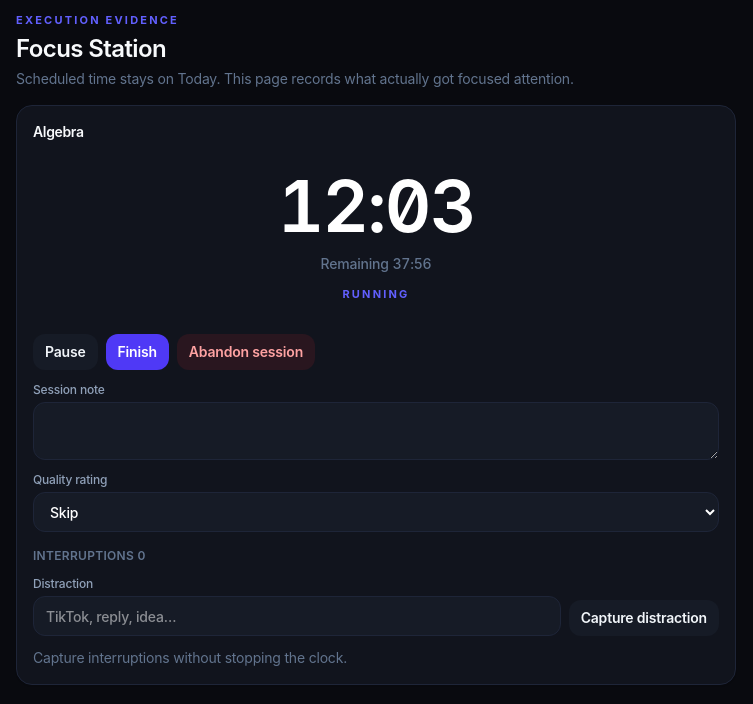
keeps distraction and note input when a write fails
Expected: the heading "Focus Station" is shown, x1=16 y1=34 x2=166 y2=62
Type "search laptop" into the field labelled "Distraction" at {"x": 297, "y": 616}, box x1=33 y1=596 x2=561 y2=636
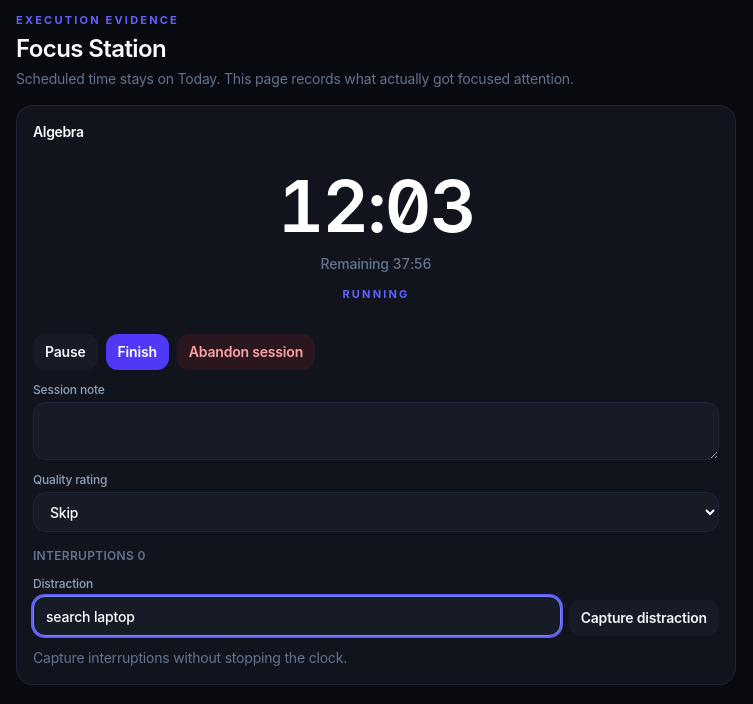
Type "almost done" into the text box labelled "Session note" at {"x": 376, "y": 431}, box x1=33 y1=402 x2=719 y2=460
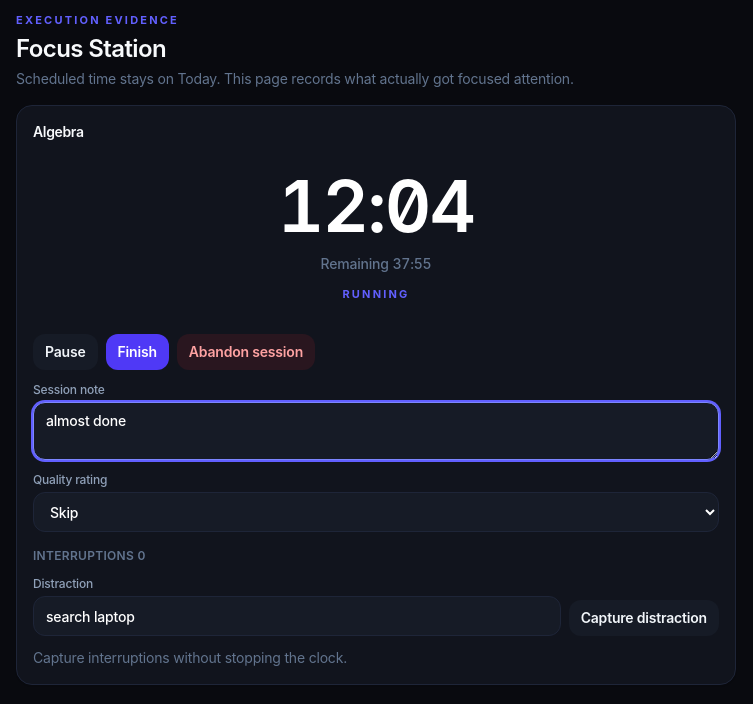
Click the button "Capture distraction" at {"x": 644, "y": 618}, box x1=569 y1=600 x2=719 y2=636
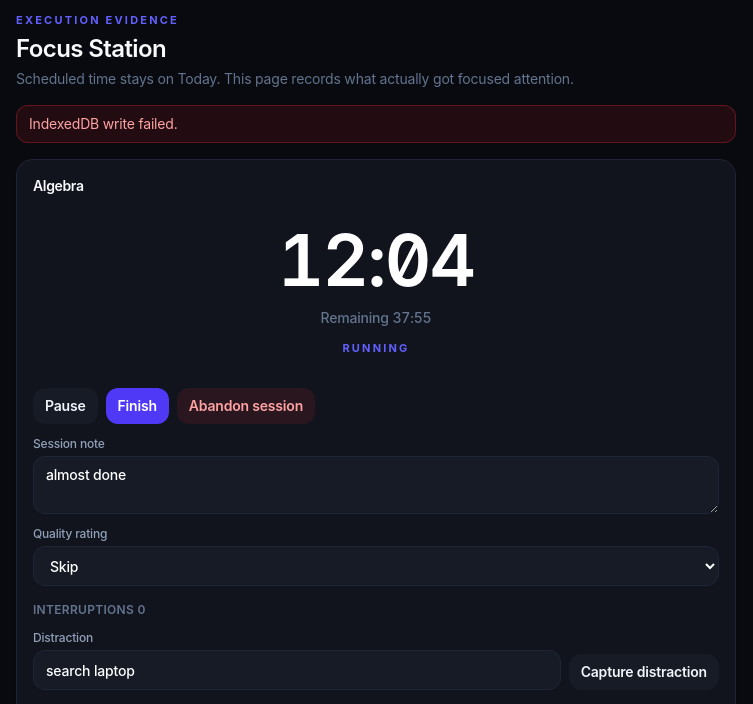
Expected: the text "IndexedDB write failed." is shown, x1=16 y1=104 x2=736 y2=142
